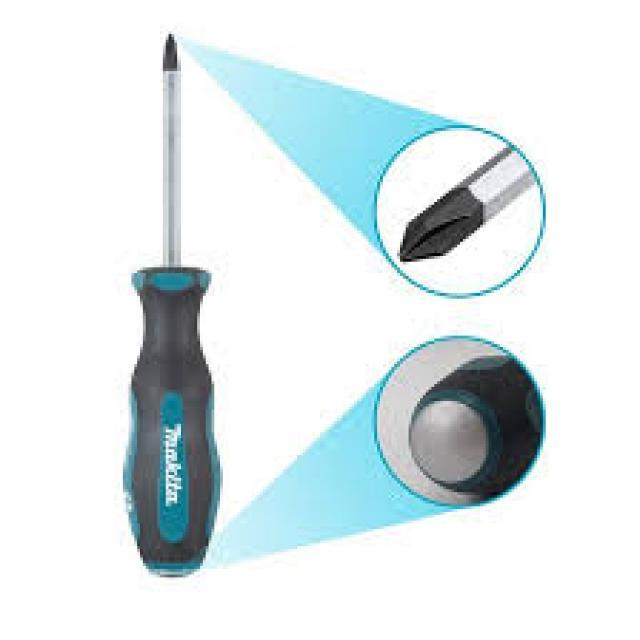screwdriver: (126, 21, 220, 576)
